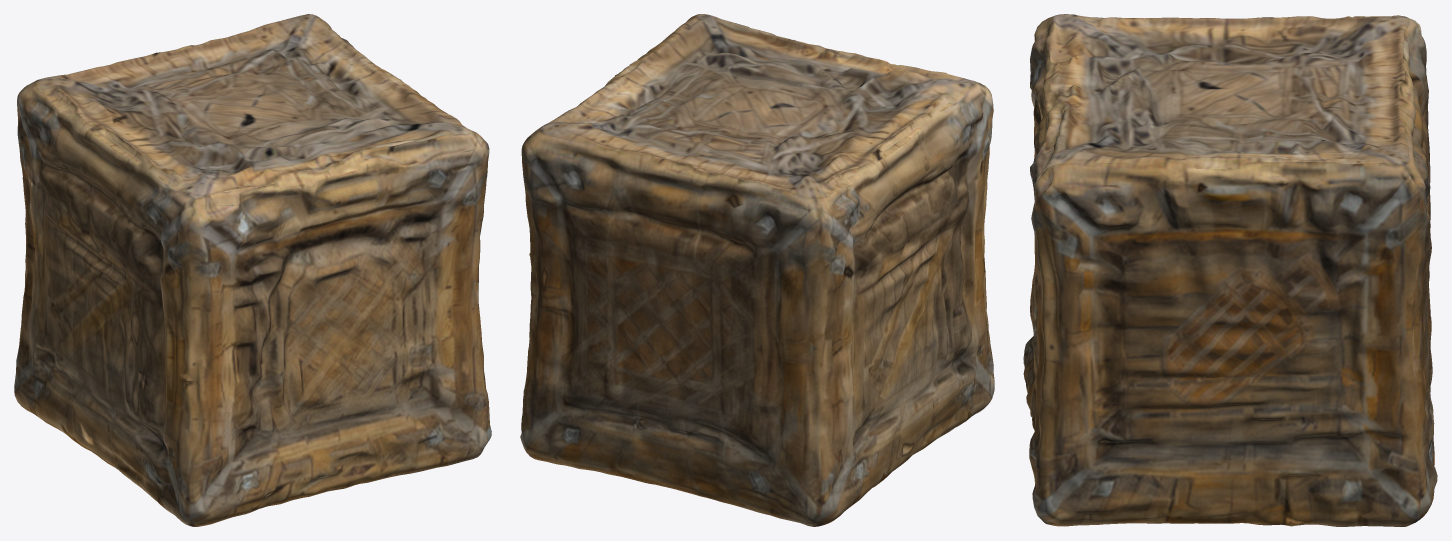
File: singlecrate.fbx
3 views of the same model, side by side, from view 1: azimuth 30°, elevation 25°; view 2: azimuth 150°, elevation 25°; view 3: azimuth 270°, elevation 25° (orthographic). The views are drawn at different scales.
Visible parts, largest first — view 1: Mesh_0; view 2: Mesh_0; view 3: Mesh_0.
Part boxes in pixels (bbox=[...]): Mesh_0: bbox=[14, 14, 491, 526]; Mesh_0: bbox=[520, 14, 994, 526]; Mesh_0: bbox=[1023, 14, 1437, 526].
Size of the model in its own units: 116 by 120 by 116.
1 material, 1 textured.
